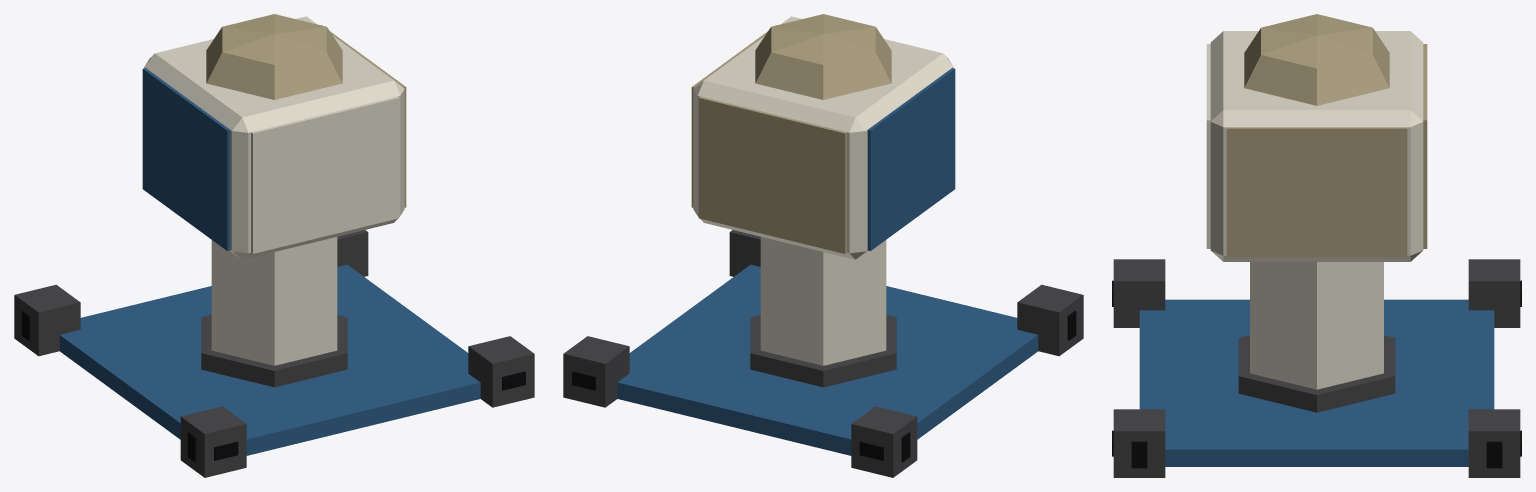
File: rcs4_mount.obj
The picture shows the model from 3 angles, left to right: view 1: azimuth 30°, elevation 25°; view 2: azimuth 150°, elevation 25°; view 3: azimuth 270°, elevation 25°; orthographic projection. The views are drawn at different scales.
Parts seen in each view (by area): view 1: rcs4_mount; view 2: rcs4_mount; view 3: rcs4_mount.
Boxes of the visible parts, <box> form: rcs4_mount: <box>14,14,534,477</box>; rcs4_mount: <box>563,14,1083,477</box>; rcs4_mount: <box>1112,14,1521,477</box>.
Bounding box in the file's own units: 1.27 × 1.23 × 1.27.
